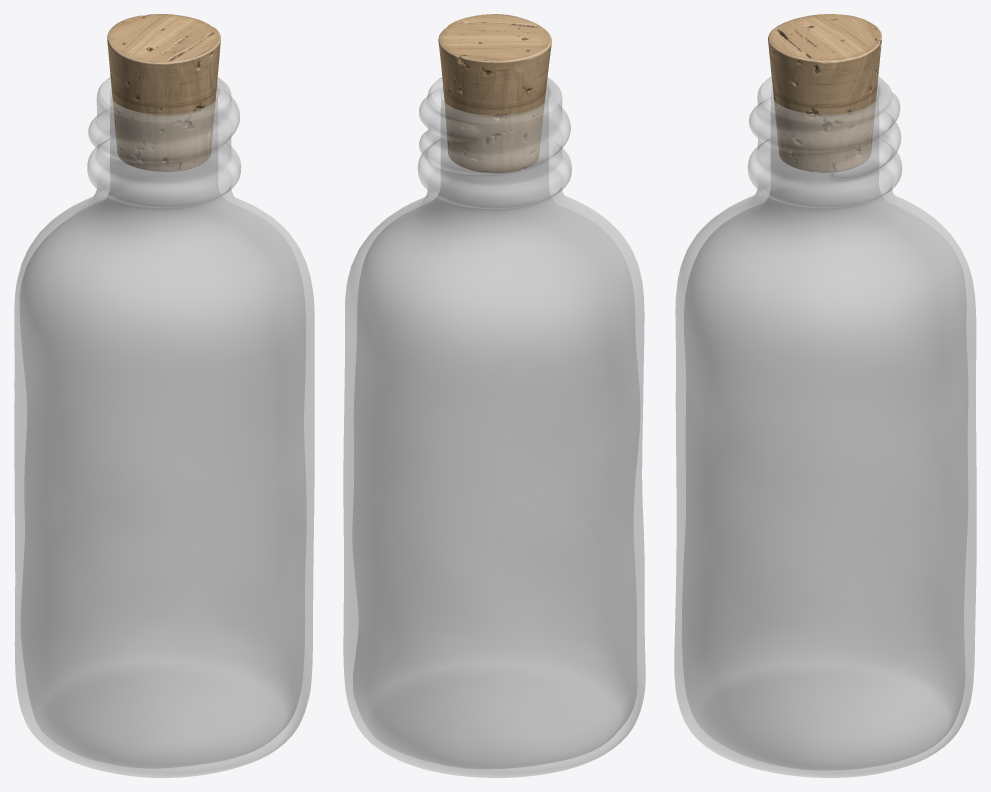
Rendered from misc_bottle_corked_a01.glb.
3 renders of one model, left to right at view 1: azimuth 30°, elevation 25°; view 2: azimuth 150°, elevation 25°; view 3: azimuth 270°, elevation 25°, orthographic.
Parts seen in each view (by area): view 1: body_01_mesh_00, lid_01_mesh_00; view 2: body_01_mesh_00, lid_01_mesh_00; view 3: body_01_mesh_00, lid_01_mesh_00.
Part boxes in pixels (x1,y1,x2,y2): body_01_mesh_00: (14, 77, 314, 777); lid_01_mesh_00: (107, 14, 220, 171); body_01_mesh_00: (343, 77, 645, 777); lid_01_mesh_00: (438, 14, 551, 173); body_01_mesh_00: (674, 76, 976, 777); lid_01_mesh_00: (768, 14, 881, 172).
Bounding box in the file's own units: 0.0402 × 0.101 × 0.0402.
2 materials, 1 textured.
